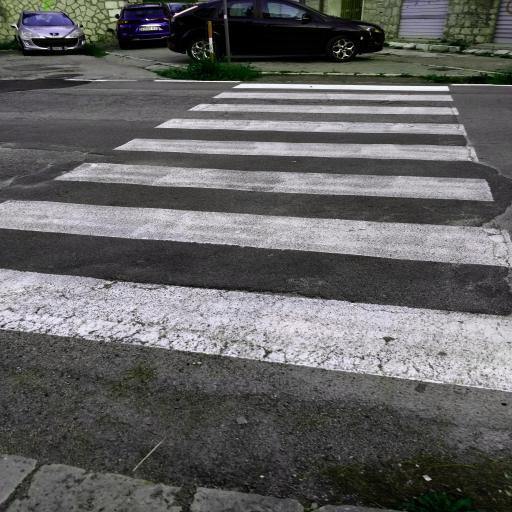crosswalk: (42, 134, 502, 206), (208, 81, 460, 105)
